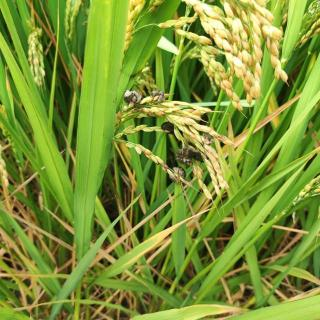Gosong-Palsu: (175, 145, 209, 165), (122, 89, 142, 109), (149, 88, 167, 106), (168, 166, 187, 183), (160, 120, 176, 134)
